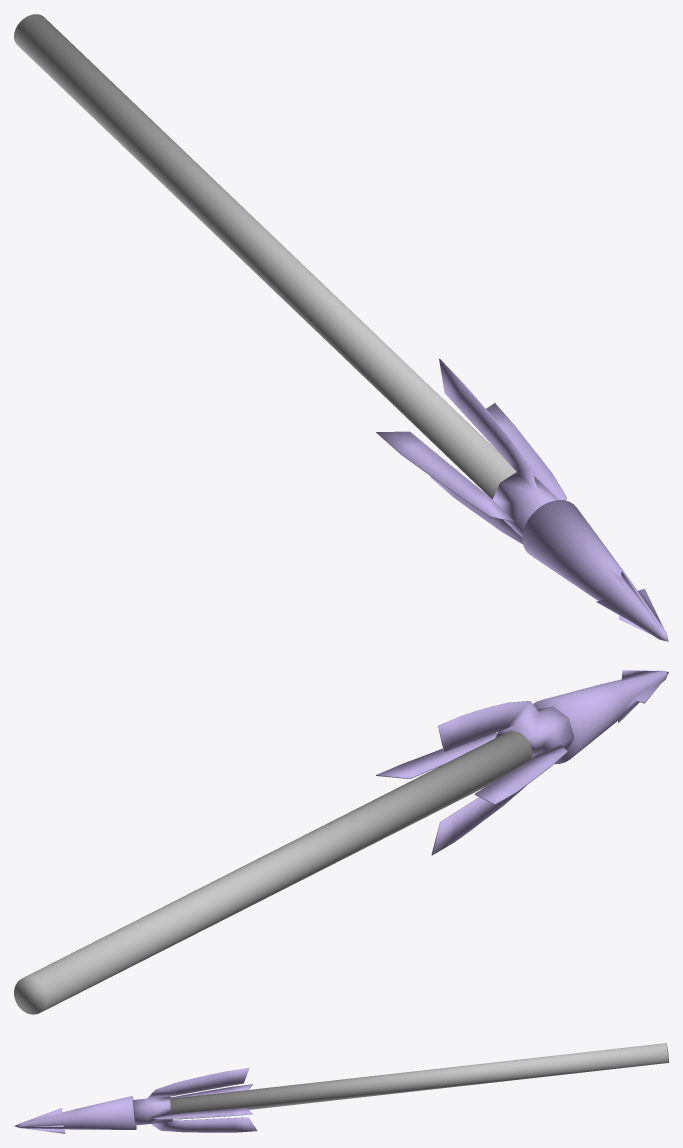
The model's file is arpao_lanca.fbx.
3 views of the same model, one above another, from view 1: azimuth 30°, elevation 25°; view 2: azimuth 150°, elevation 25°; view 3: azimuth 270°, elevation 25° (orthographic). The views are drawn at different scales.
Visible parts, largest first — view 1: Arpao; view 2: Arpao; view 3: Arpao.
Part boxes in pixels (bbox=[...]): Arpao: bbox=[14, 14, 668, 641]; Arpao: bbox=[14, 670, 668, 1014]; Arpao: bbox=[14, 1043, 668, 1133].
Size of the model in its own units: 51.93 by 73.16 by 484.
